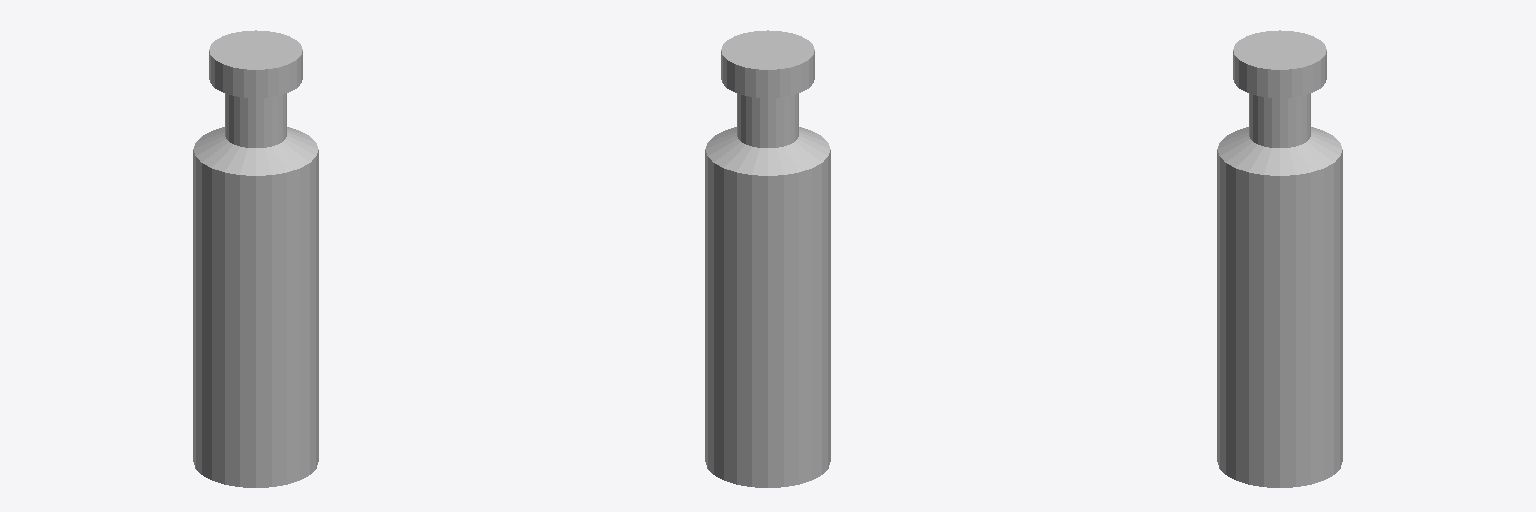
Rendered from bouteille1.obj.
3 renders of one model, left to right at view 1: azimuth 30°, elevation 25°; view 2: azimuth 150°, elevation 25°; view 3: azimuth 270°, elevation 25°, orthographic.
Visible parts, largest first — view 1: Bouteille1; view 2: Bouteille1; view 3: Bouteille1.
Boxes of the visible parts, <box> form: Bouteille1: <box>193,30,318,487</box>; Bouteille1: <box>705,30,830,487</box>; Bouteille1: <box>1217,30,1342,487</box>.
Bounding box in the file's own units: 0.7109 × 2.58 × 0.7109.